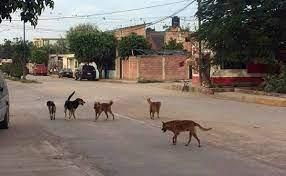dog_aggressive: (63, 88, 86, 122)
normal_dogs: (159, 116, 212, 149), (92, 99, 118, 123), (145, 96, 163, 122), (46, 98, 58, 121)
